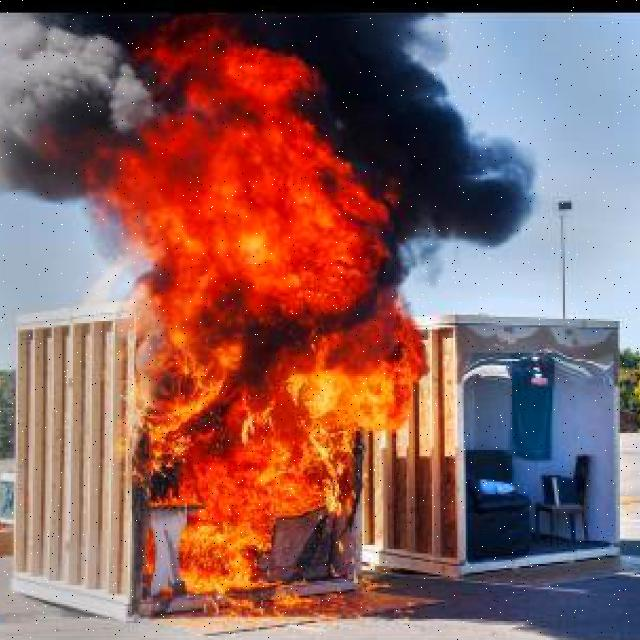fire: (117, 36, 424, 602)
smoke: (383, 38, 546, 251), (0, 10, 130, 214)
